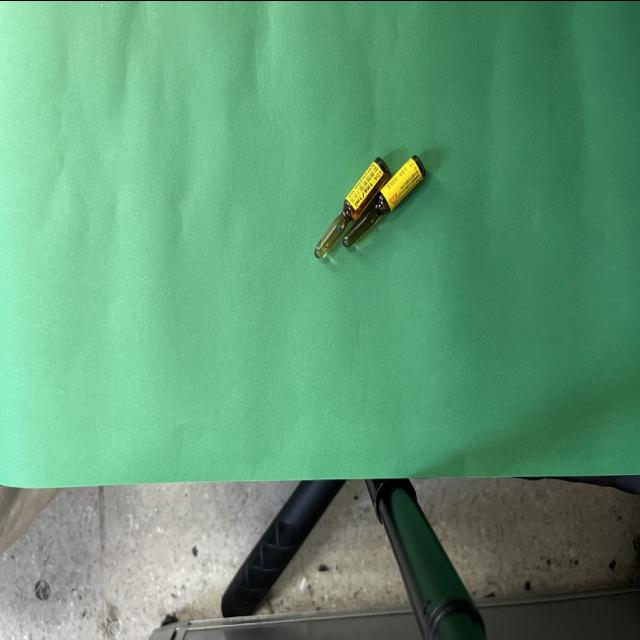Ampoules: (314, 157, 389, 258), (342, 157, 424, 247)
